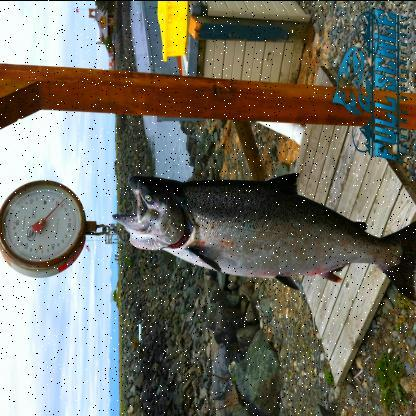fish: (112, 172, 416, 300)
